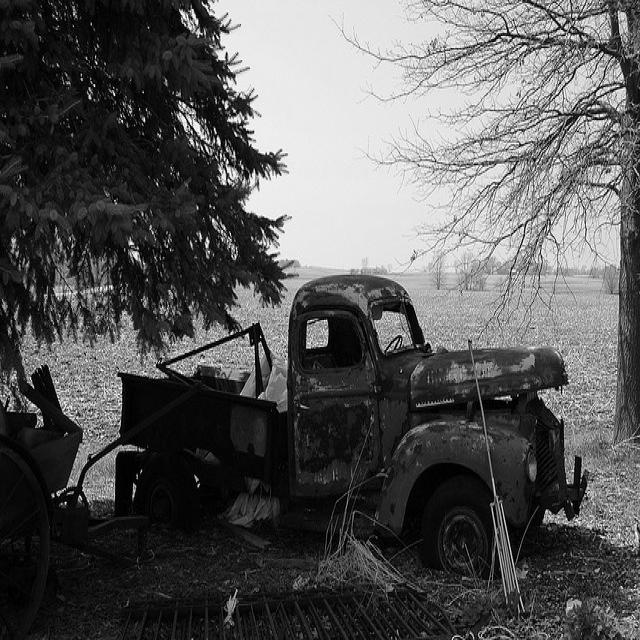truck: (113, 270, 586, 576)
